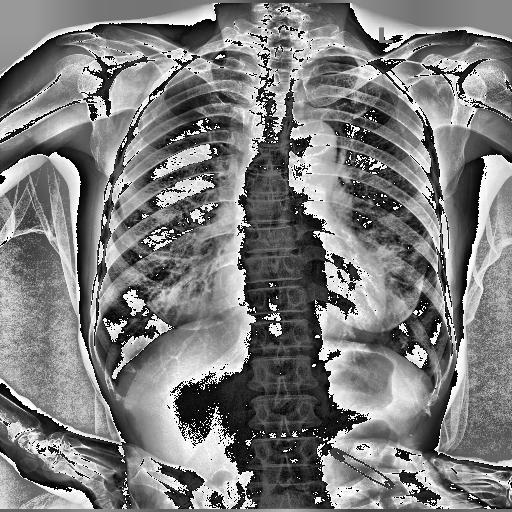0- Aortic enlargement: (282, 119, 338, 159), (290, 117, 336, 157)
13- Pulmonary fibrosis: (361, 223, 421, 288), (397, 334, 409, 350)
5- ILD: (361, 223, 421, 288), (376, 218, 430, 286)
7- Lung Opacity: (380, 242, 431, 280), (397, 334, 409, 350)
8- Nodule-Mass: (180, 297, 202, 317), (388, 299, 404, 314)
